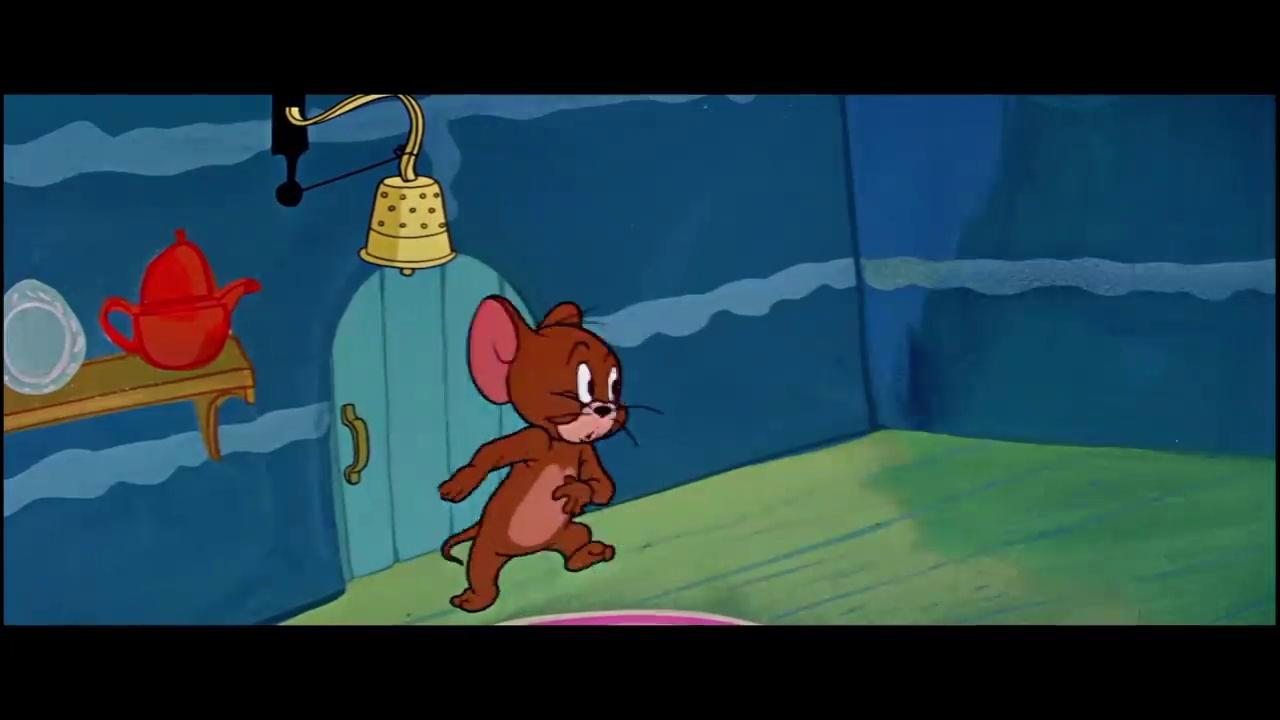Jerry: (436, 289, 633, 615)
